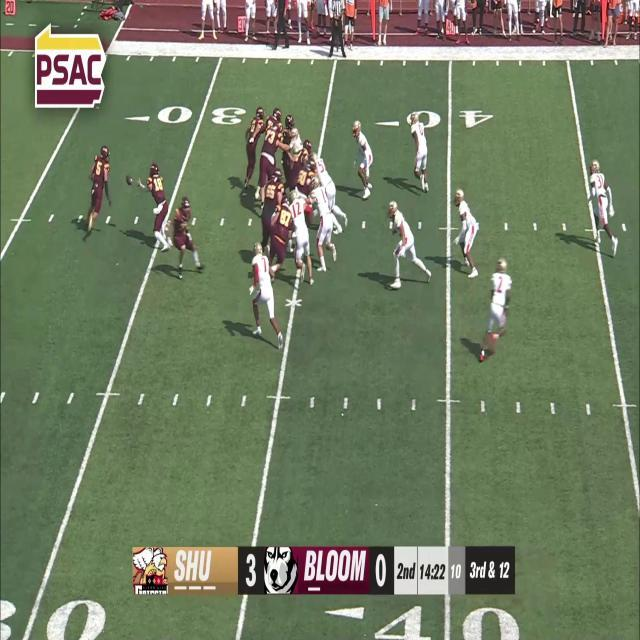football: (125, 174, 134, 186)
